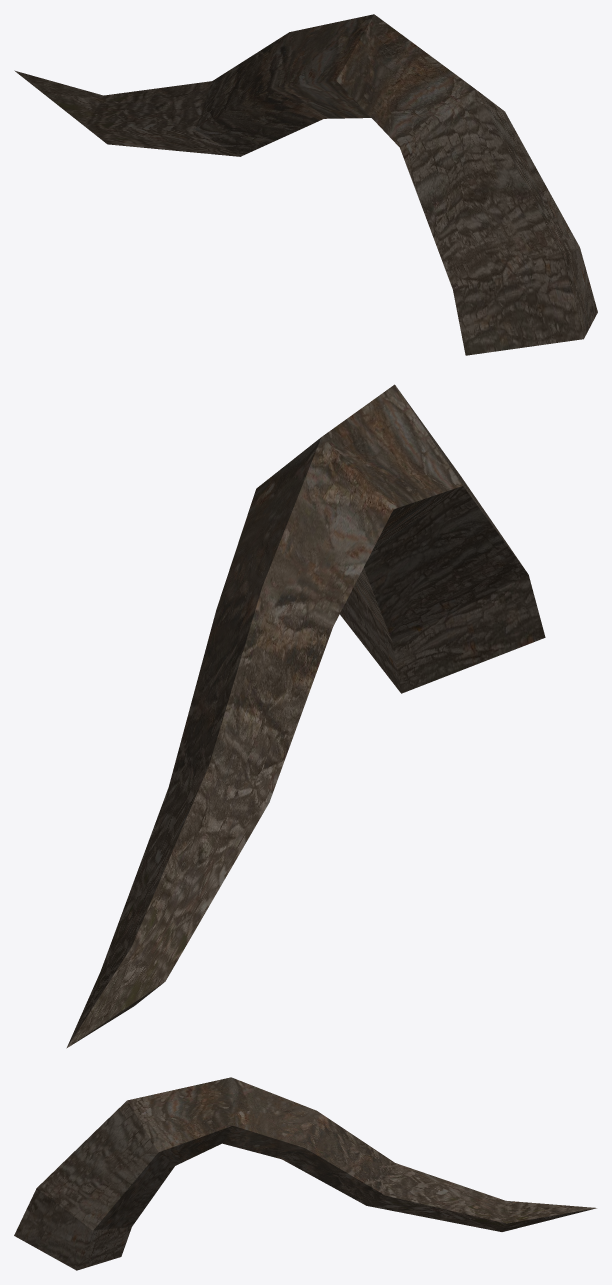
3 renders of one model, top to bottom at view 1: azimuth 30°, elevation 25°; view 2: azimuth 150°, elevation 25°; view 3: azimuth 270°, elevation 25°, orthographic. The views are drawn at different scales.
Parts seen in each view (by area): view 1: root.002; view 2: root.002; view 3: root.002.
Boxes of the visible parts, left/top/right/bottom form: root.002: left=14, top=14, right=597, bottom=355; root.002: left=66, top=384, right=545, bottom=1048; root.002: left=14, top=1077, right=596, bottom=1270.
Bounding box in the file's own units: 1.12 × 1.47 × 4.43.
Materials: 1 (1 with a texture image).
